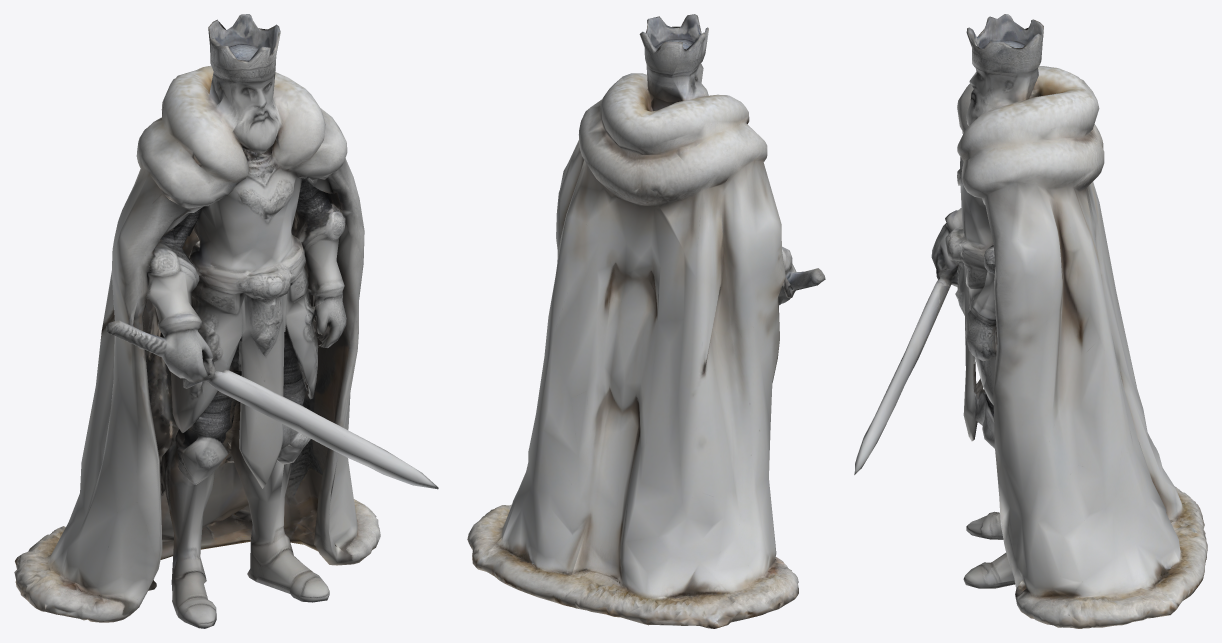
The model's file is King.fbx.
The picture shows the model from 3 angles, left to right: view 1: azimuth 30°, elevation 25°; view 2: azimuth 150°, elevation 25°; view 3: azimuth 270°, elevation 25°; orthographic projection. The views are drawn at different scales.
Parts seen in each view (by area): view 1: Mesh_0; view 2: Mesh_0; view 3: Mesh_0.
Boxes of the visible parts, bbox=[...] form: Mesh_0: bbox=[14, 14, 438, 628]; Mesh_0: bbox=[467, 14, 825, 628]; Mesh_0: bbox=[854, 14, 1207, 628].
Size of the model in its own units: 125 by 200 by 121.
Materials: 1 (1 with a texture image).
